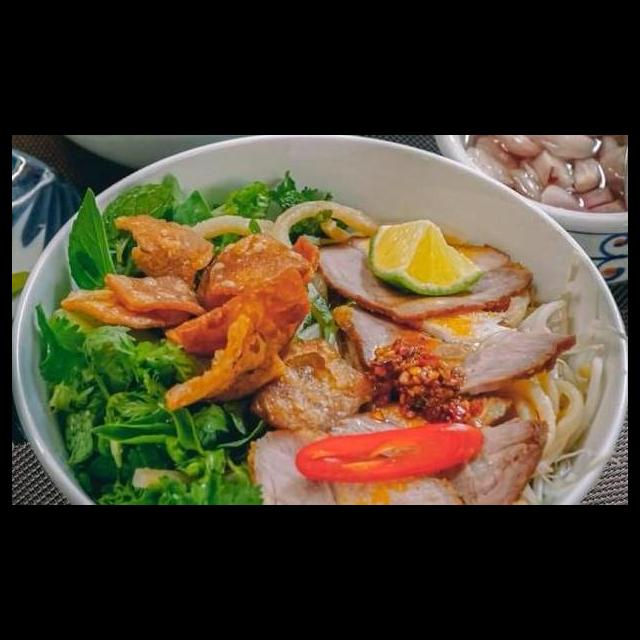banh da: (326, 253, 479, 379), (253, 202, 395, 307), (347, 225, 480, 328), (316, 317, 449, 408), (425, 306, 582, 370), (423, 345, 531, 429)
mi: (250, 380, 452, 447), (41, 161, 142, 289)
mi quang: (20, 180, 623, 505)
thit heo: (87, 136, 397, 241), (61, 235, 312, 354), (101, 313, 326, 415)
